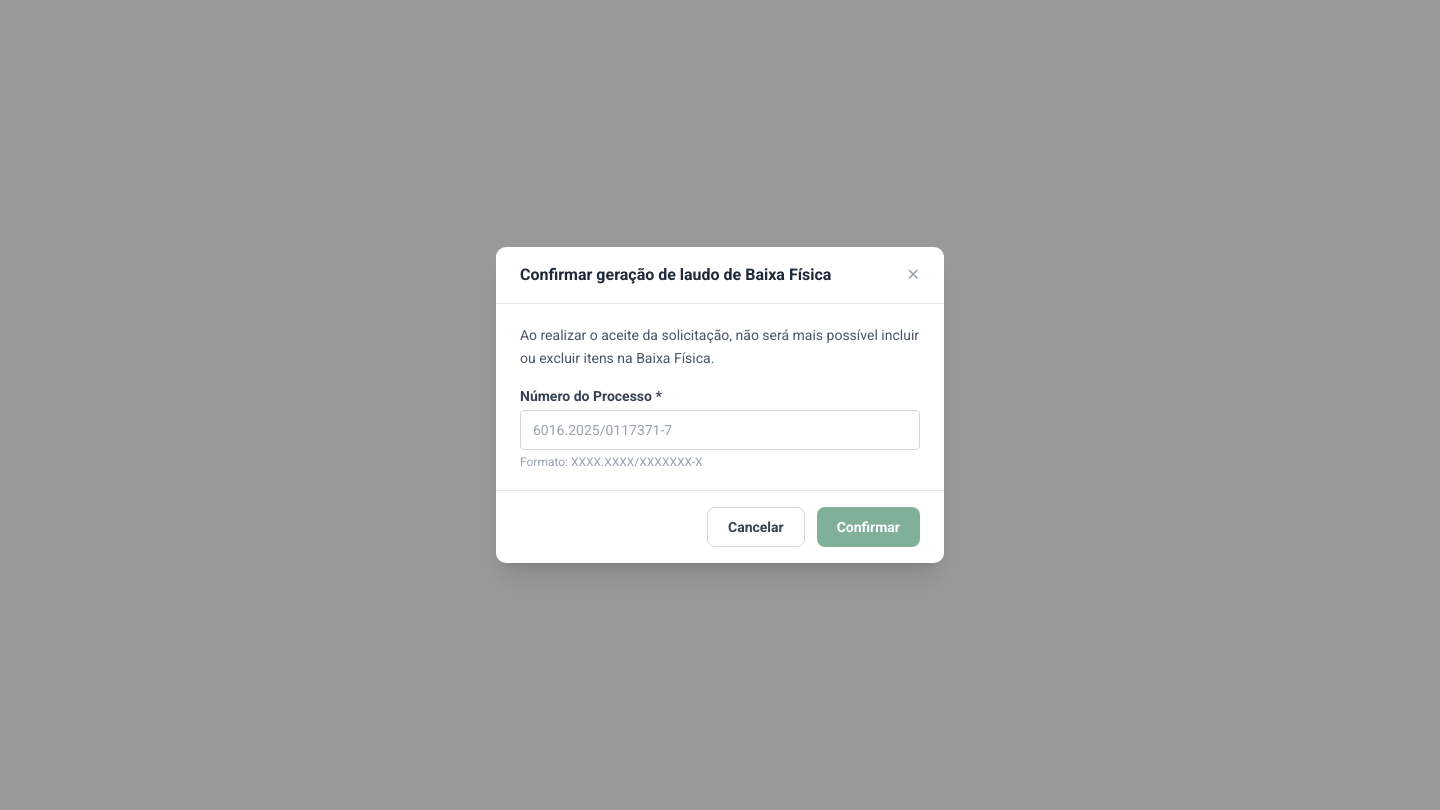
Scenario: ConfirmarAceiteModal › desabilita Confirmar quando processo está vazio ou inválido
Expected: the button "Confirmar" is disabled, x1=817 y1=507 x2=920 y2=547
Type "123" into the field labelled "Número do Processo". click: x=720, y=430
box: x1=520 y1=410 x2=920 y2=450
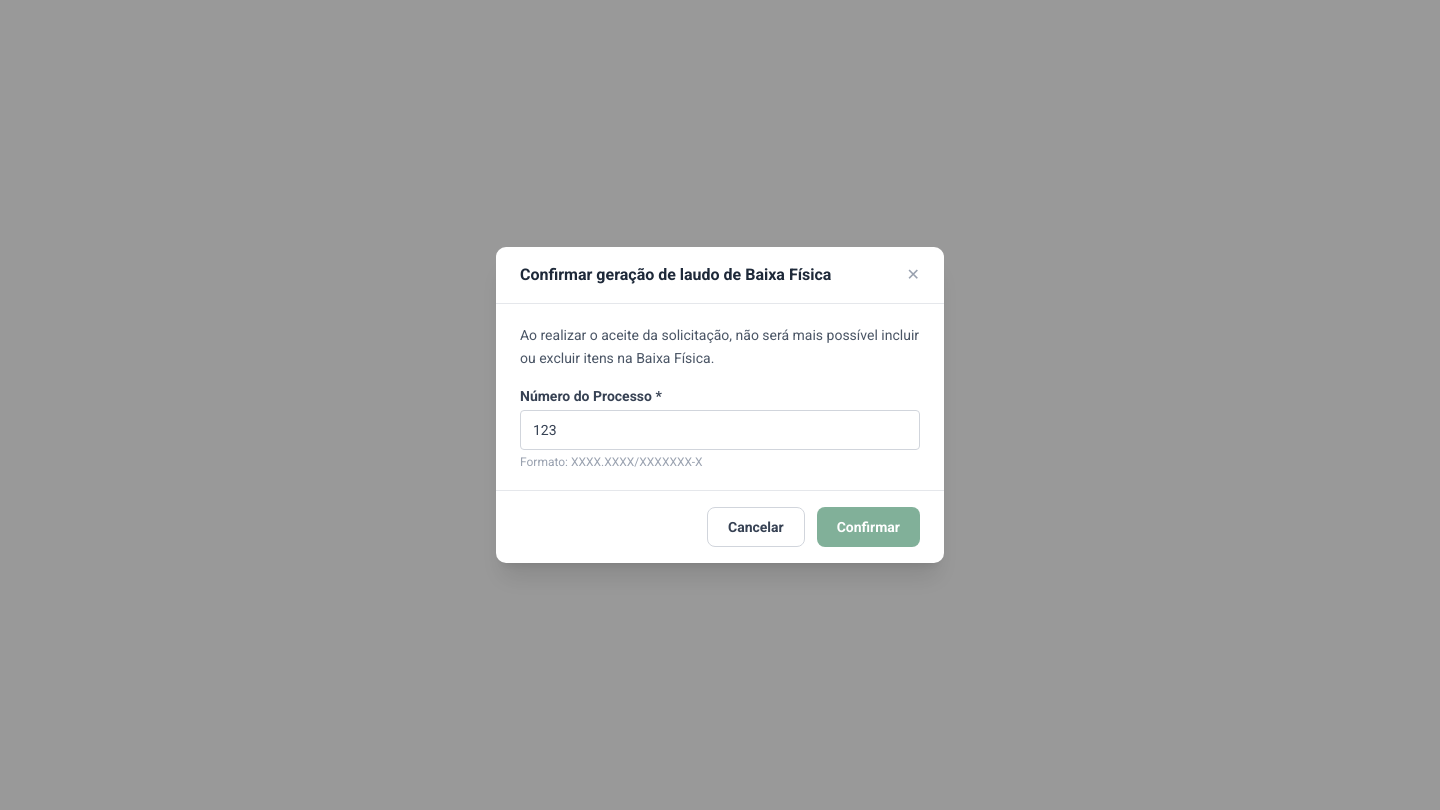
Expected: the button "Confirmar" is disabled, x1=817 y1=507 x2=920 y2=547
Replace the text in the field labelled "Número do Processo" with "6016.2025/0117371-7". click: x=720, y=430
box: x1=520 y1=410 x2=920 y2=450
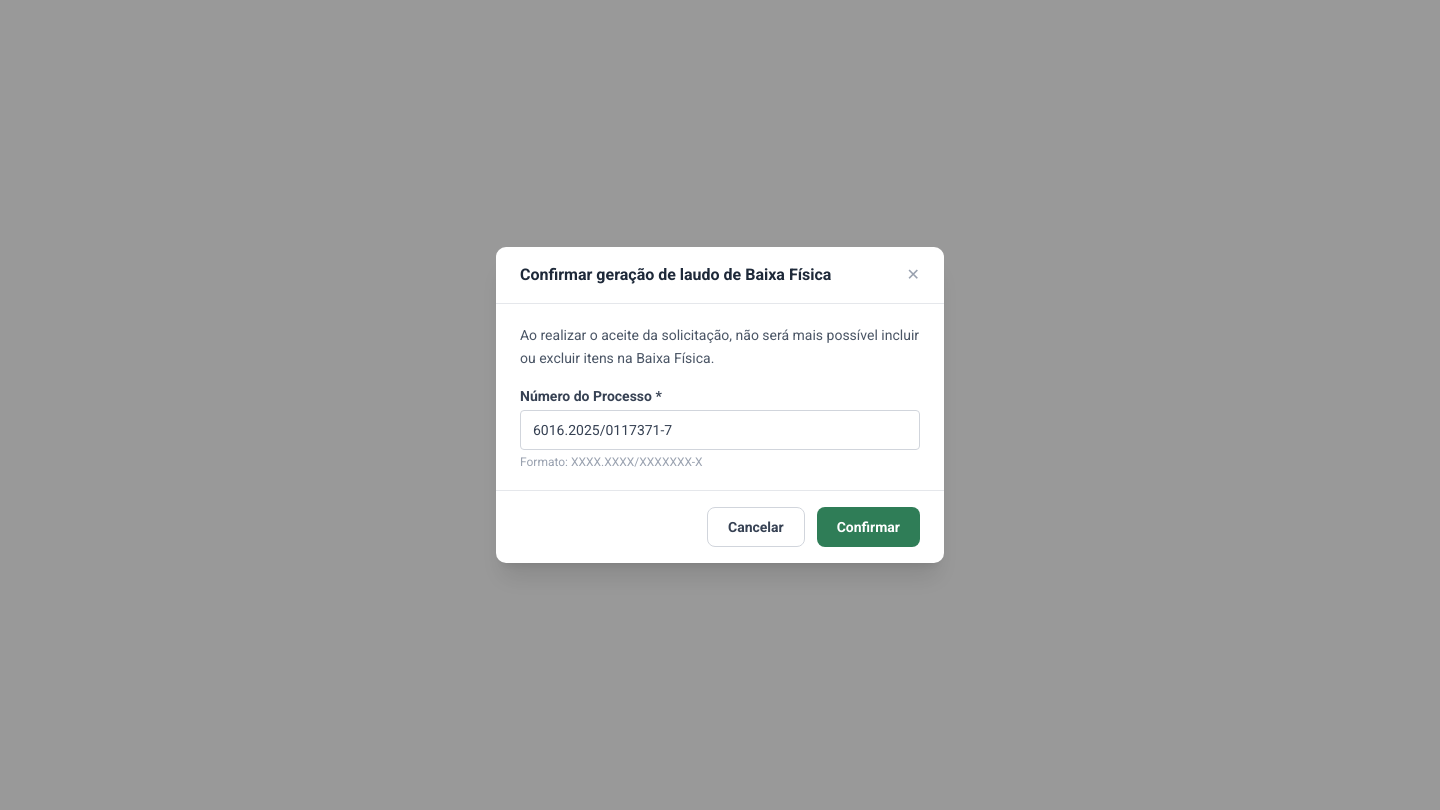
Expected: the button "Confirmar" is enabled, x1=817 y1=507 x2=920 y2=547
